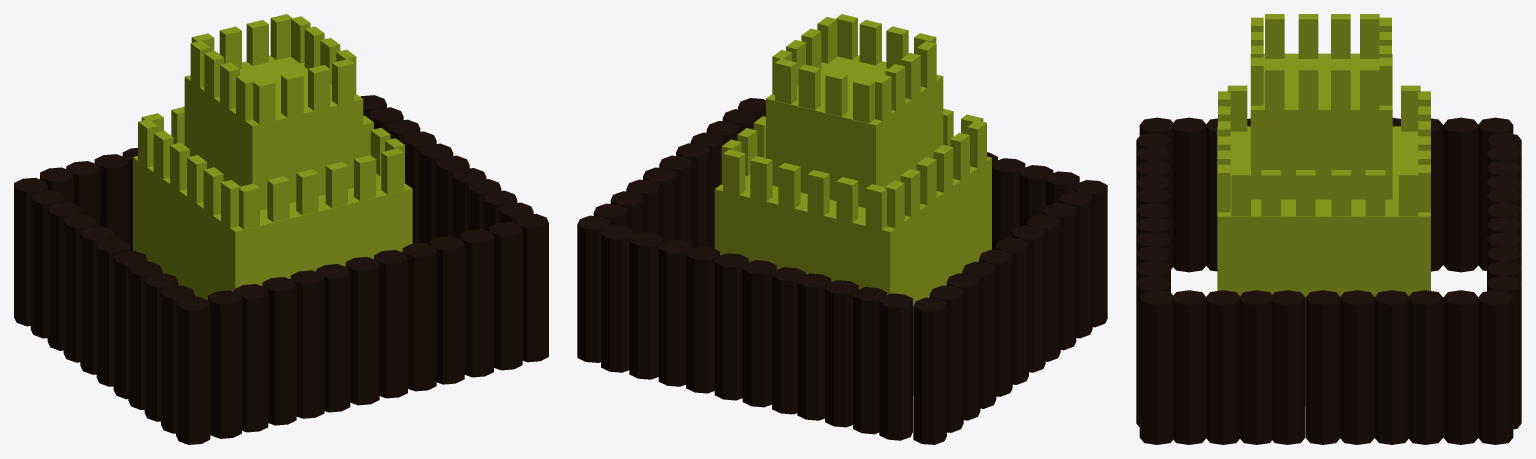
File: fort1f.obj
3 renders of one model, left to right at view 1: azimuth 30°, elevation 25°; view 2: azimuth 150°, elevation 25°; view 3: azimuth 270°, elevation 25°, orthographic. The views are drawn at different scales.
Visible parts, largest first — view 1: Cube.044, Cube.045, Cube.022, Cube, Cube.005, Cube.009, Cube.007, Cube.010, Cube.002, Cube.006, Cube.008, Cube.003 (+50 smaller); view 2: Cube.044, Cube.045, Cube.032, Cube.011, Cube.016, Cube.020, Cube.021, Cube.017, Cube.018, Cube.013, Cube.019, Cube.014 (+50 smaller); view 3: Cube.044, Cube.045, Cube.038, Cube.042, Cube.043, Cube.031, Cube.041, Cube.033, Cube.039, Cube.040, Cube.035, Cube.023 (+49 smaller).
Boxes of the visible parts, x1,y1,x2,y2 form: Cube.044: [133, 156, 412, 299]; Cube.045: [184, 55, 363, 210]; Cube.022: [176, 296, 210, 444]; Cube: [208, 290, 241, 438]; Cube.005: [345, 257, 379, 405]; Cube.009: [460, 229, 493, 377]; Cube.007: [402, 243, 436, 391]; Cube.010: [488, 222, 522, 370]; Cube.002: [262, 277, 296, 425]; Cube.006: [374, 250, 407, 398]; Cube.008: [430, 236, 464, 384]; Cube.003: [290, 270, 324, 418]; Cube.044: [714, 156, 991, 395]; Cube.045: [766, 55, 943, 207]; Cube.032: [913, 297, 946, 444]; Cube.011: [879, 293, 912, 440]; Cube.016: [742, 260, 776, 407]; Cube.020: [629, 232, 663, 379]; Cube.021: [601, 225, 634, 372]; Cube.017: [714, 253, 748, 400]; Cube.018: [686, 246, 719, 393]; Cube.013: [825, 280, 858, 427]; Cube.019: [658, 239, 692, 386]; Cube.014: [797, 273, 831, 420]; Cube.044: [1217, 126, 1430, 406]; Cube.045: [1250, 53, 1392, 199]; Cube.038: [1305, 290, 1340, 444]; Cube.042: [1443, 290, 1478, 444]; Cube.043: [1478, 290, 1513, 444]; Cube.031: [1443, 117, 1478, 272]; Cube.041: [1408, 290, 1443, 444]; Cube.033: [1139, 290, 1174, 444]; Cube.039: [1340, 290, 1374, 444]; Cube.040: [1374, 290, 1408, 444]; Cube.035: [1206, 290, 1240, 444]; Cube.023: [1172, 117, 1206, 272].
Bounding box in the file's own units: 14.56 × 11.56 × 12.66.
